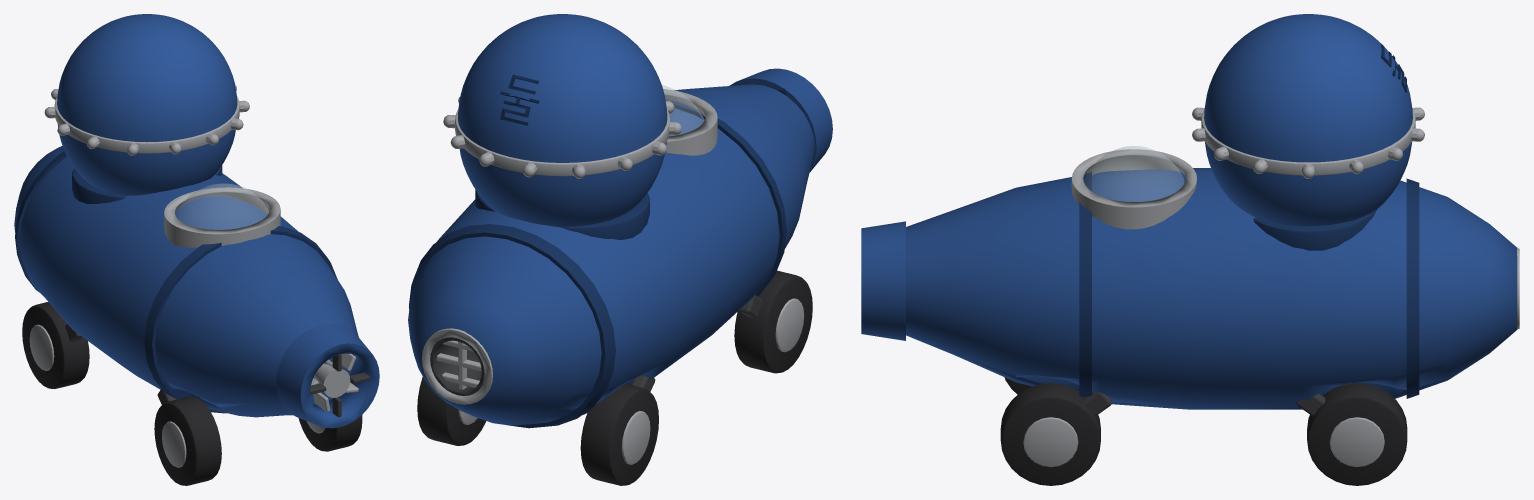
The model's file is dul.glb.
3 views of the same model, side by side, from view 1: azimuth 30°, elevation 25°; view 2: azimuth 150°, elevation 25°; view 3: azimuth 270°, elevation 25° (orthographic). The views are drawn at different scales.
Visible parts, largest first — view 1: DUL_Hull, CORE_dul_Shell, DUL_Nozzle, DUL_Wheel_RP, DUL_Wheel_FP, DUL_TankRim, DUL_TankGlass, DUL_Impeller, DUL_Wheel_RL; view 2: DUL_Hull, CORE_dul_Shell, DUL_Wheel_FP, DUL_Wheel_RP, DUL_Intake, DUL_Nozzle, DUL_Wheel_FL, DUL_TankRim, DUL_IntakeGrille, DUL_TankGlass, CORE_dul_Name; view 3: DUL_Hull, CORE_dul_Shell, DUL_Wheel_FL, DUL_Wheel_RL, DUL_TankRim, DUL_Nozzle, DUL_TankGlass.
Part boxes in pixels (x1,y1,x2,y2): DUL_Hull: (14, 146, 358, 417); CORE_dul_Shell: (44, 14, 249, 195); DUL_Nozzle: (276, 323, 379, 428); DUL_Wheel_RP: (154, 396, 221, 485); DUL_Wheel_FP: (22, 302, 89, 388); DUL_TankRim: (164, 187, 280, 247); DUL_TankGlass: (176, 184, 268, 229); DUL_Impeller: (311, 353, 358, 411); DUL_Wheel_RL: (298, 415, 362, 451); DUL_Hull: (408, 84, 814, 428); CORE_dul_Shell: (443, 14, 681, 227); DUL_Wheel_FP: (580, 383, 658, 485); DUL_Wheel_RP: (734, 270, 812, 373); DUL_Intake: (422, 328, 492, 404); DUL_Nozzle: (729, 68, 832, 172); DUL_Wheel_FL: (417, 377, 486, 445); DUL_TankRim: (663, 89, 717, 155); DUL_IntakeGrille: (436, 340, 481, 389); DUL_TankGlass: (662, 85, 704, 135); CORE_dul_Name: (500, 74, 539, 125); DUL_Hull: (906, 168, 1517, 409); CORE_dul_Shell: (1192, 14, 1424, 226); DUL_Wheel_FL: (1307, 383, 1407, 485); DUL_Wheel_RL: (1000, 383, 1100, 485); DUL_TankRim: (1071, 149, 1196, 229); DUL_Nozzle: (861, 221, 905, 340); DUL_TankGlass: (1084, 146, 1183, 201).
Bounding box in the file's own units: 0.38 × 0.66 × 0.945.
